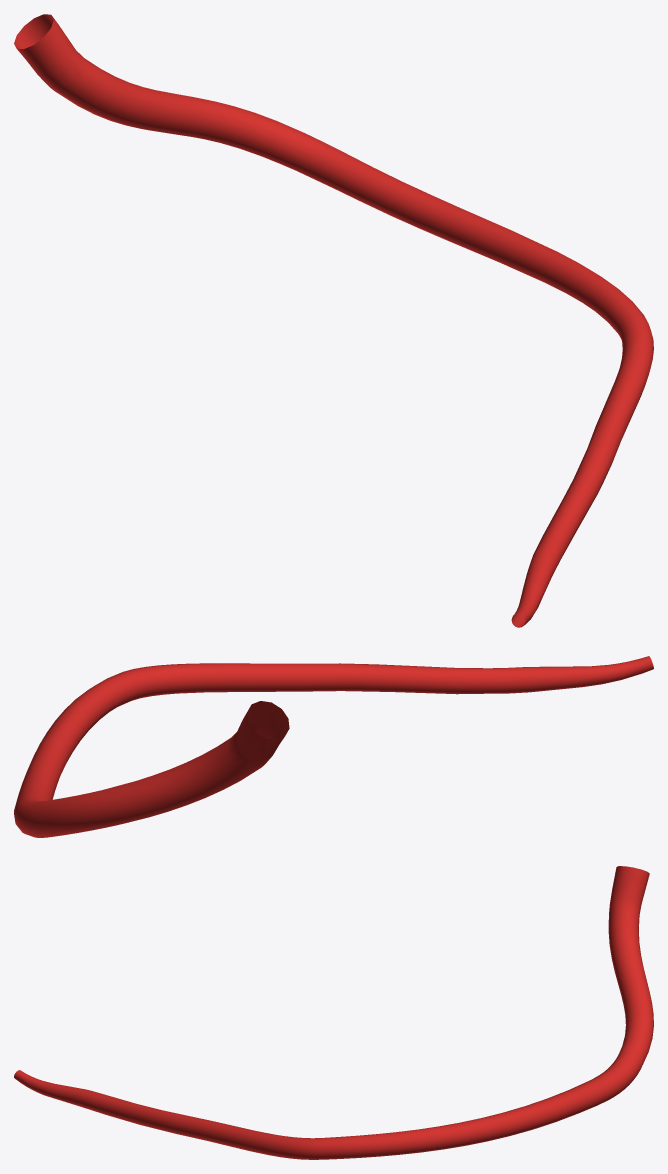
Rendered from circulatorio-inferior-medial-genicular-artery-r.glb.
3 views of the same model, one above another, from view 1: azimuth 30°, elevation 25°; view 2: azimuth 150°, elevation 25°; view 3: azimuth 270°, elevation 25° (orthographic). The views are drawn at different scales.
Parts seen in each view (by area): view 1: Inferior medial genicular artery.r; view 2: Inferior medial genicular artery.r; view 3: Inferior medial genicular artery.r.
Part boxes in pixels (<box>): Inferior medial genicular artery.r: <box>14,14,653,627</box>; Inferior medial genicular artery.r: <box>14,656,653,837</box>; Inferior medial genicular artery.r: <box>14,866,653,1159</box>.
Size of the model in its own units: 0.0383 by 0.0271 by 0.0752.
